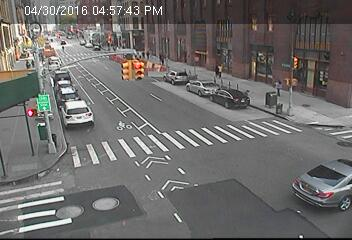neg: (28, 108, 49, 137), (50, 73, 64, 93), (263, 36, 277, 56), (225, 42, 238, 58), (35, 77, 46, 92), (160, 34, 171, 49), (45, 55, 55, 68), (118, 56, 128, 69), (191, 59, 201, 72), (178, 70, 188, 83), (101, 22, 111, 34), (90, 40, 98, 51)
pos: (271, 79, 288, 102), (215, 63, 226, 77), (145, 50, 153, 61), (22, 59, 30, 70), (160, 56, 167, 66), (60, 45, 67, 54)
